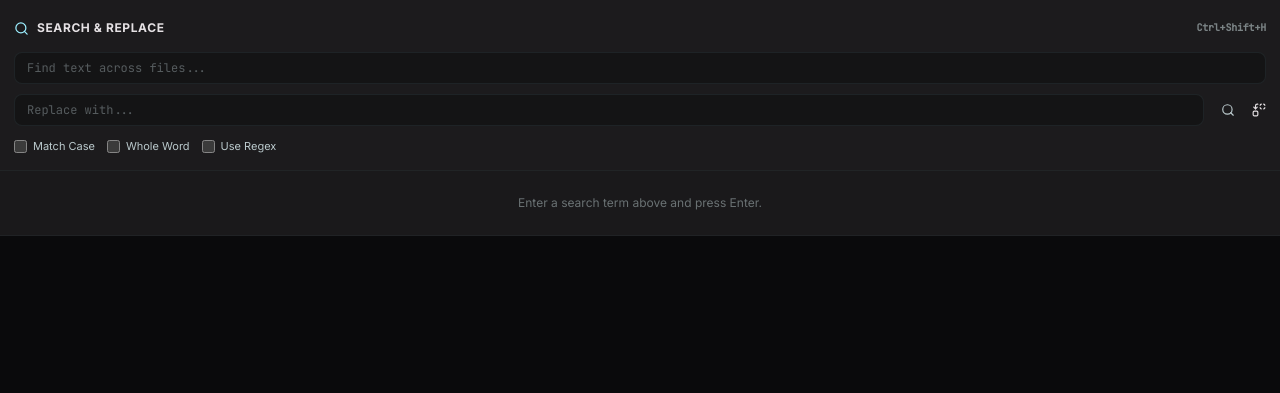
Test: Phase 1: Search & Replace Across Files › performs search and displays matches grouped by file with selection checkboxes
Type "test" into the field with test id "search-query-input".
click(640, 68); type("test")  # box [14, 52, 1266, 84]
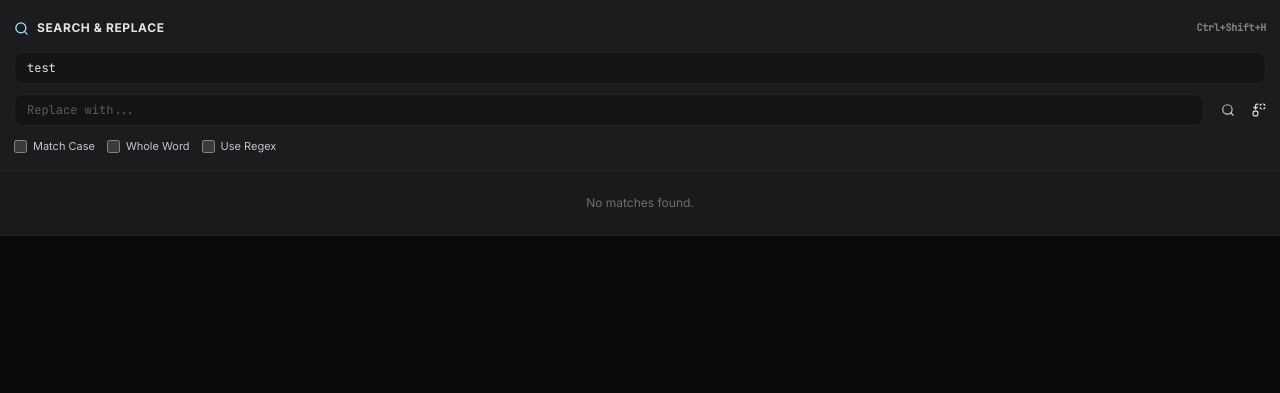
Click the button with test id "search-submit-btn".
click(1228, 110)  # box [1212, 94, 1244, 126]
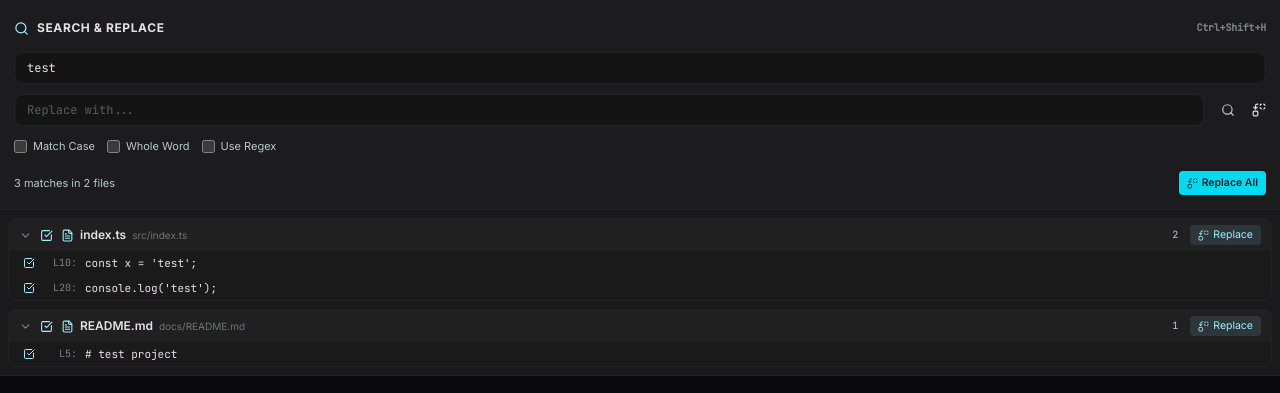
Expected: the text "index.ts" is shown, [80, 227, 126, 243]
Expected: the text "README.md" is shown, [80, 318, 153, 334]
Expected: the text "const x = 'test';" is shown, [85, 256, 197, 270]
